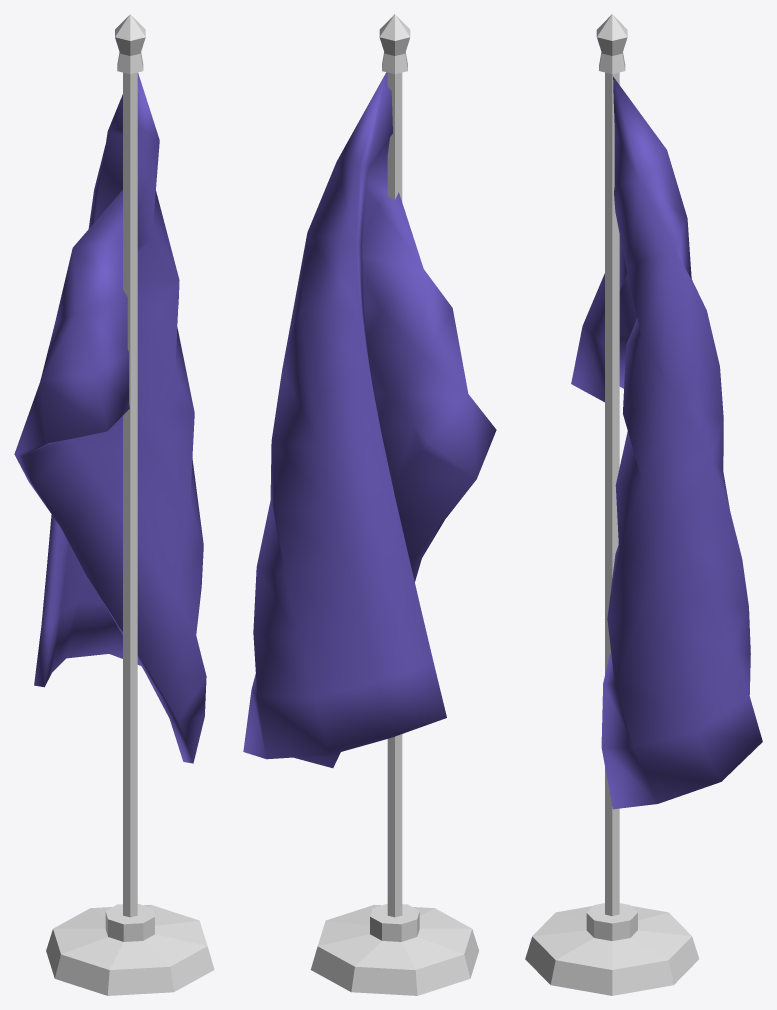
Rendered from Flag_01.fbx.
3 views of the same model, side by side, from view 1: azimuth 30°, elevation 25°; view 2: azimuth 150°, elevation 25°; view 3: azimuth 270°, elevation 25° (orthographic).
Visible parts, largest first — view 1: SM_Env_Flag_Pole_01; view 2: SM_Env_Flag_Pole_01; view 3: SM_Env_Flag_Pole_01.
Boxes of the visible parts, x1=… form: SM_Env_Flag_Pole_01: x1=14, y1=14, x2=214, y2=995; SM_Env_Flag_Pole_01: x1=243, y1=14, x2=496, y2=995; SM_Env_Flag_Pole_01: x1=525, y1=14, x2=762, y2=995.
Size of the model in its own units: 0.4686 by 2.11 by 0.4821.
